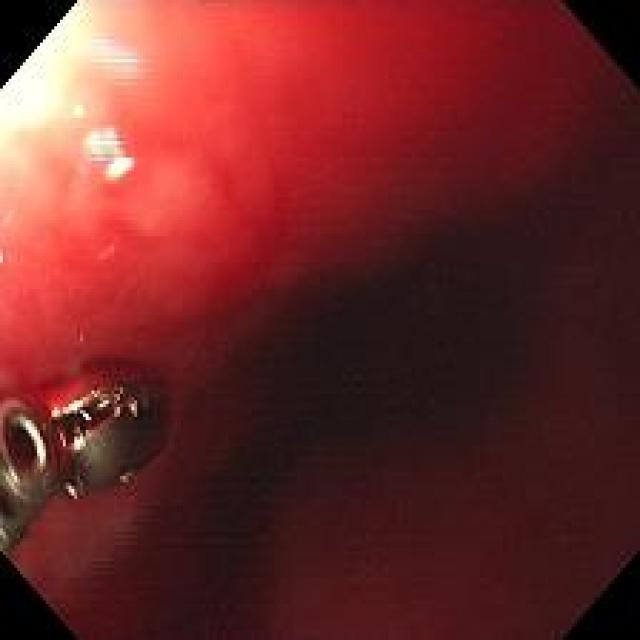contrast: (186, 181, 608, 570), (147, 455, 267, 633)
instrument: (2, 357, 172, 572)
saturation: (1, 1, 171, 226)
specularity: (84, 127, 133, 184), (96, 39, 139, 81), (22, 417, 48, 467), (50, 397, 87, 416), (68, 99, 87, 127), (69, 433, 87, 448), (66, 483, 79, 499), (129, 403, 136, 412)
